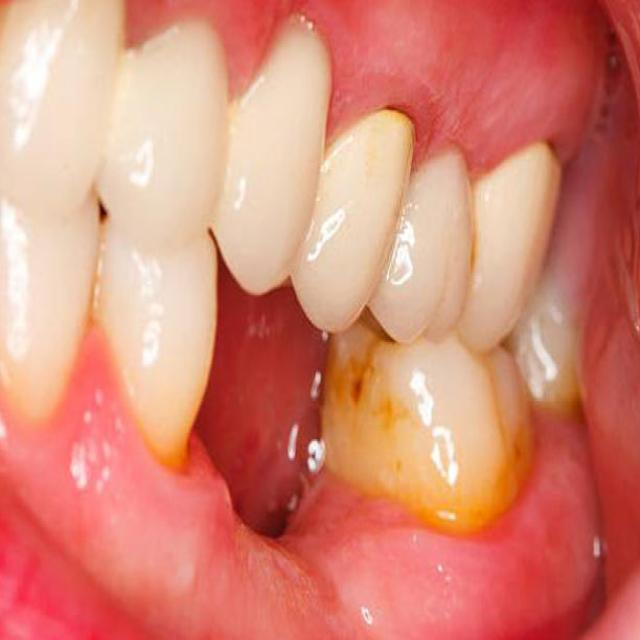caries: (332, 346, 390, 440)
